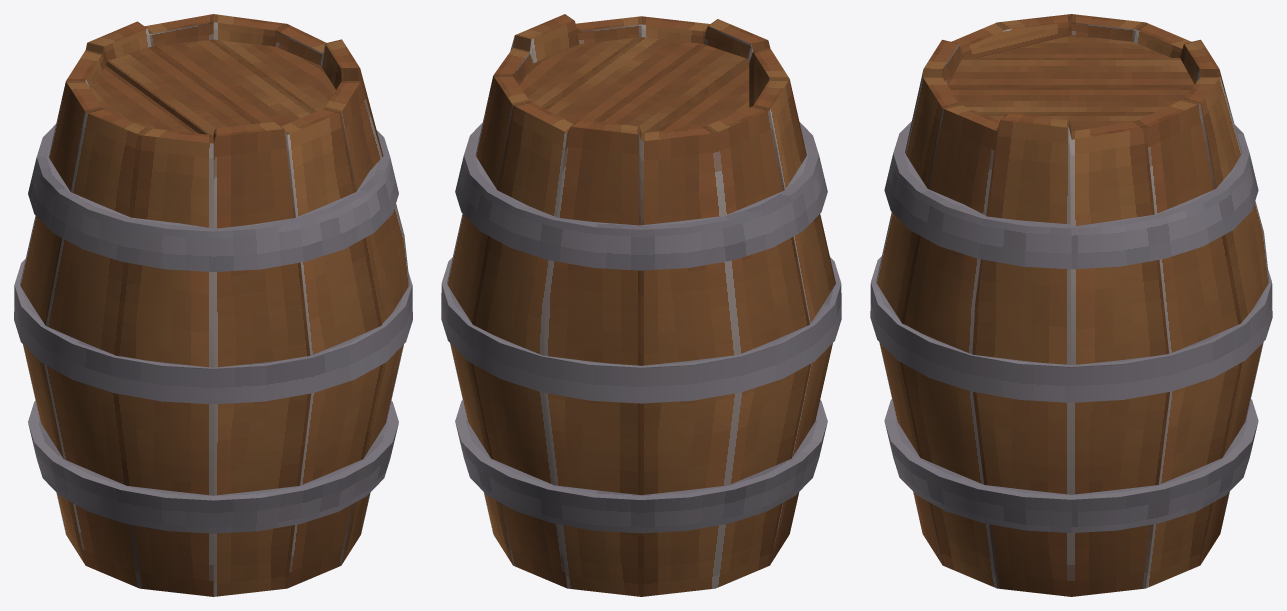
Rendered from barrel-VCCxYzXR.glb.
3 views of the same model, side by side, from view 1: azimuth 30°, elevation 25°; view 2: azimuth 150°, elevation 25°; view 3: azimuth 270°, elevation 25° (orthographic).
Bounding box in the file's own units: 0.698 × 0.898 × 0.698.
Materials: 1 (1 with a texture image).
